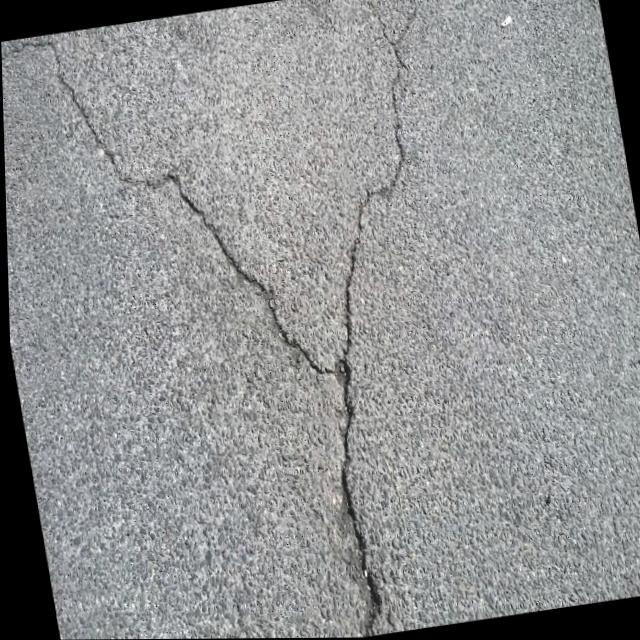Crack: (14, 0, 530, 640)
